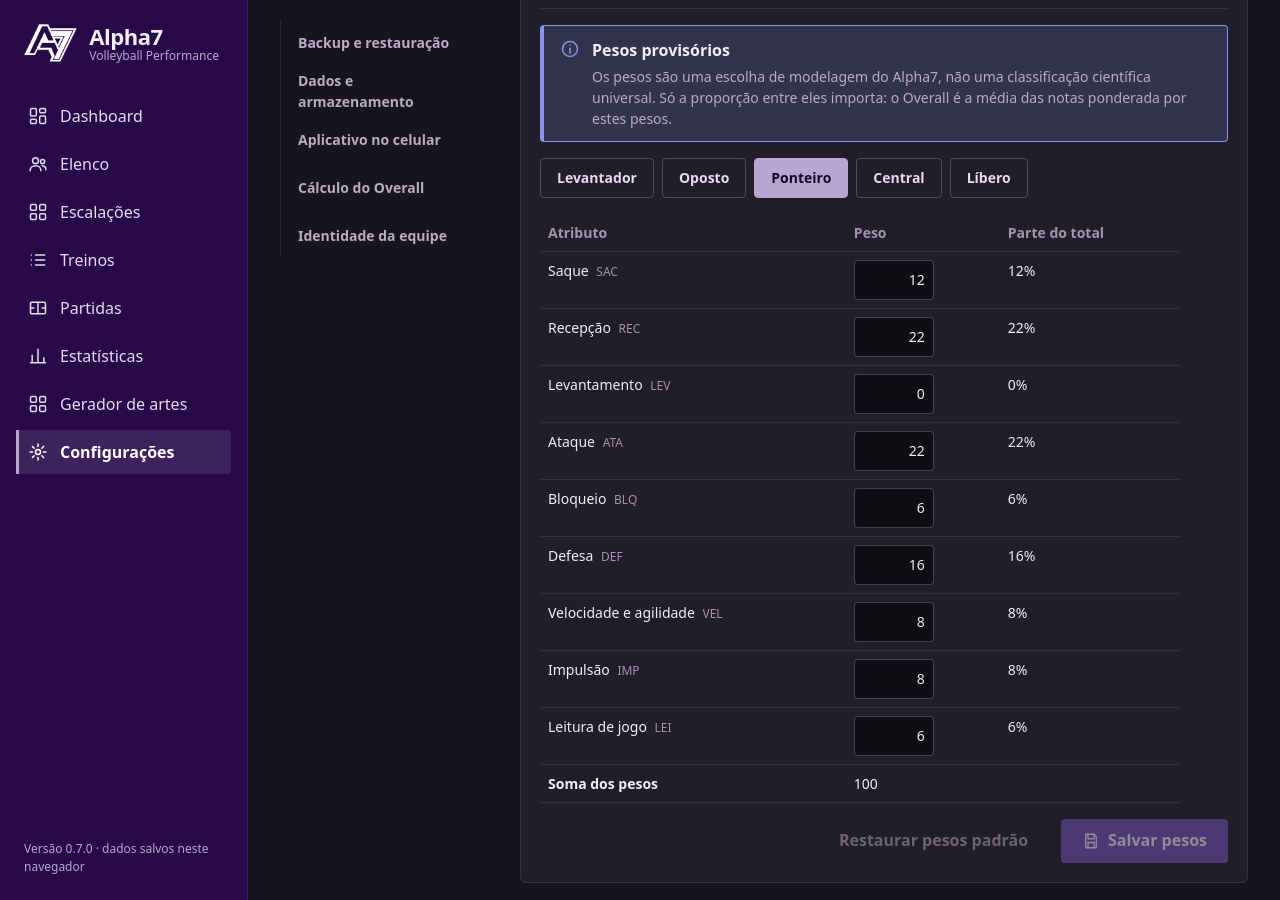
Scenario: Pesos do Overall › valor inválido (texto, negativo ou acima de 100) bloqueia o salvamento com mensagem
The image size is (1280, 900).
(page scrolled)
Clear the field labelled "Ataque ATA" at [894, 451], box [854,431,934,471]
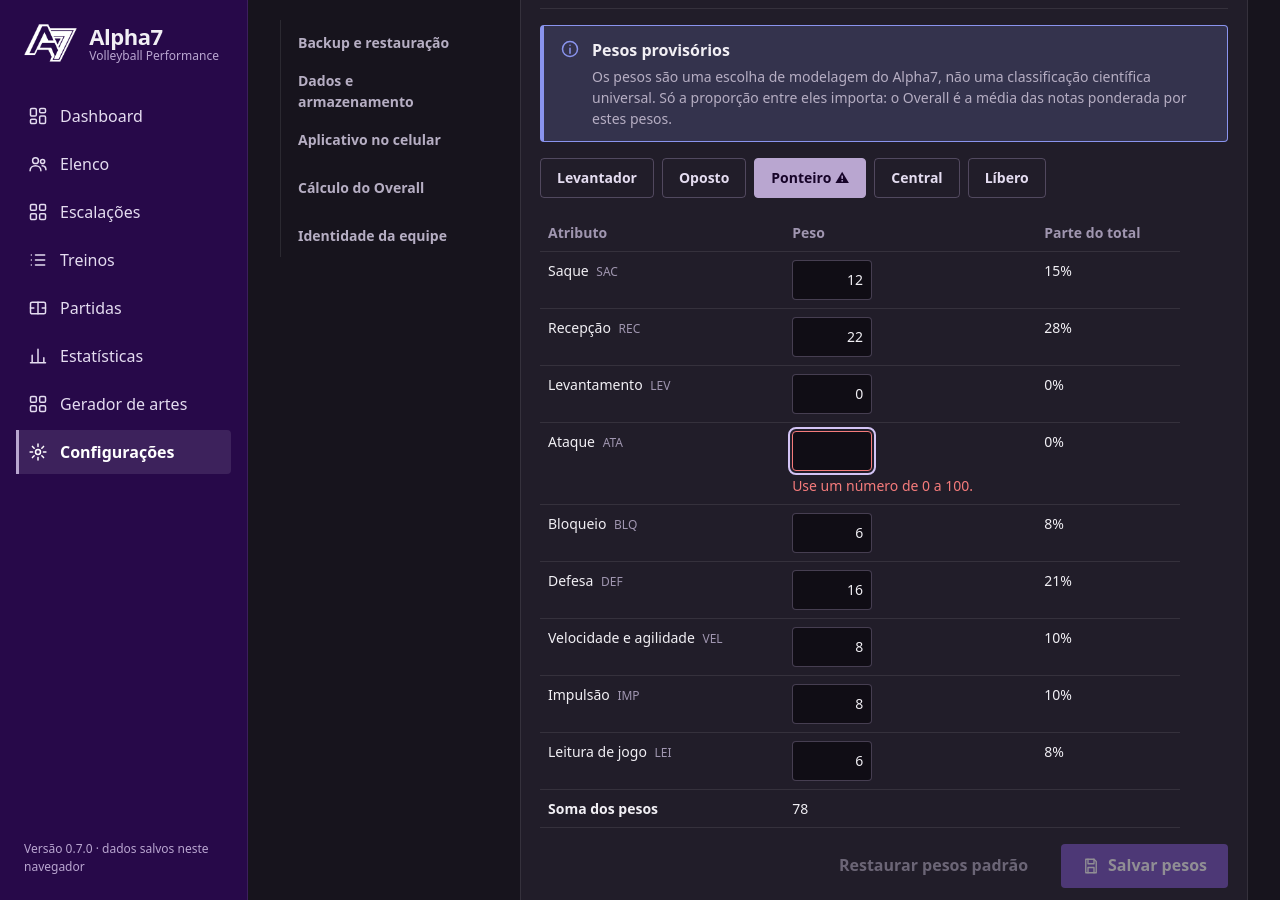
Type "abc" into the field labelled "Ataque ATA" at [832, 451], box [792,431,872,471]
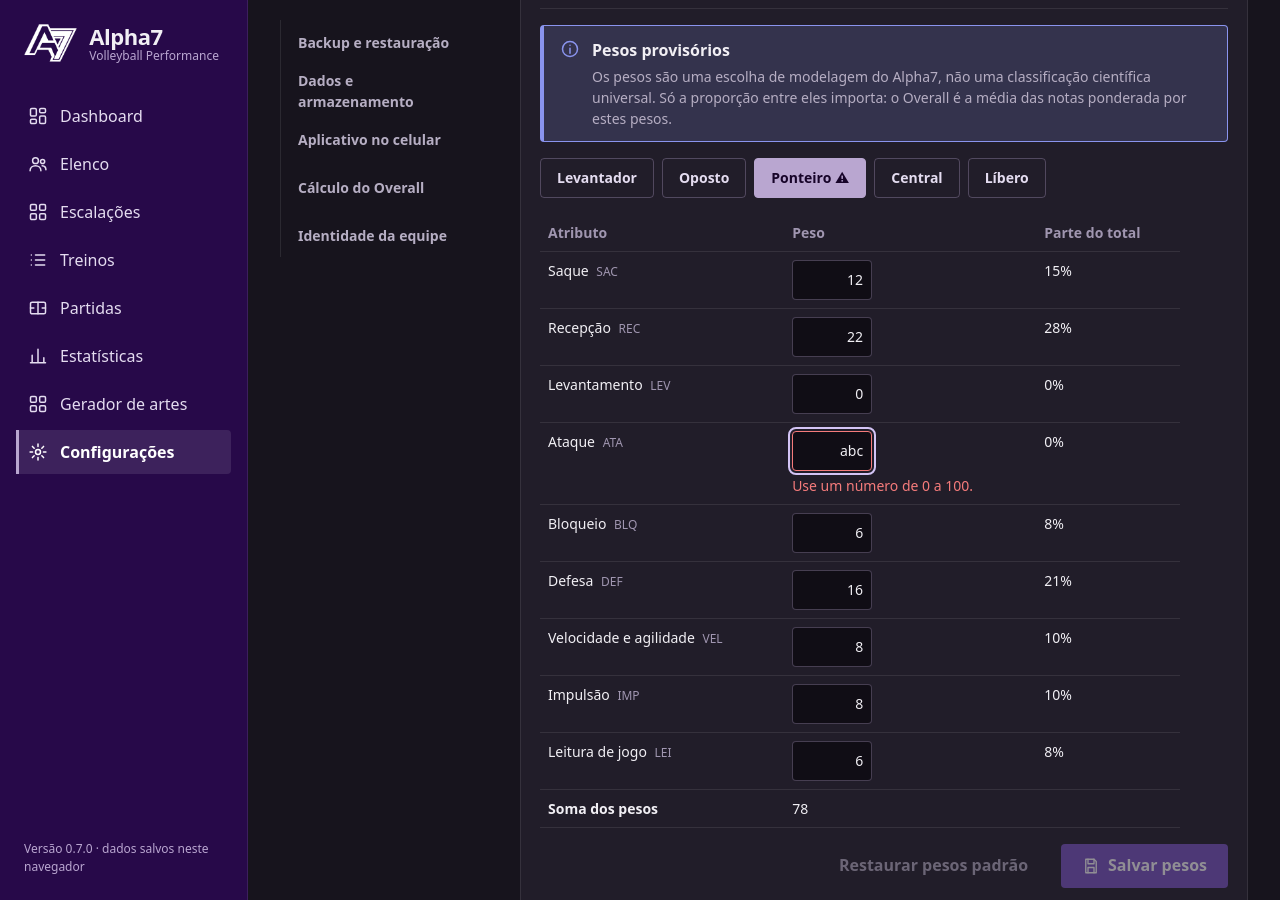
expect the button "Salvar pesos" is disabled: met, box [1061,844,1228,888]
expect the text "Use um número de 0 a 100." is shown: met, box [792,476,973,495]
Replace the text in the field labelled "Ataque ATA" with "-5" at [832, 451], box [792,431,872,471]
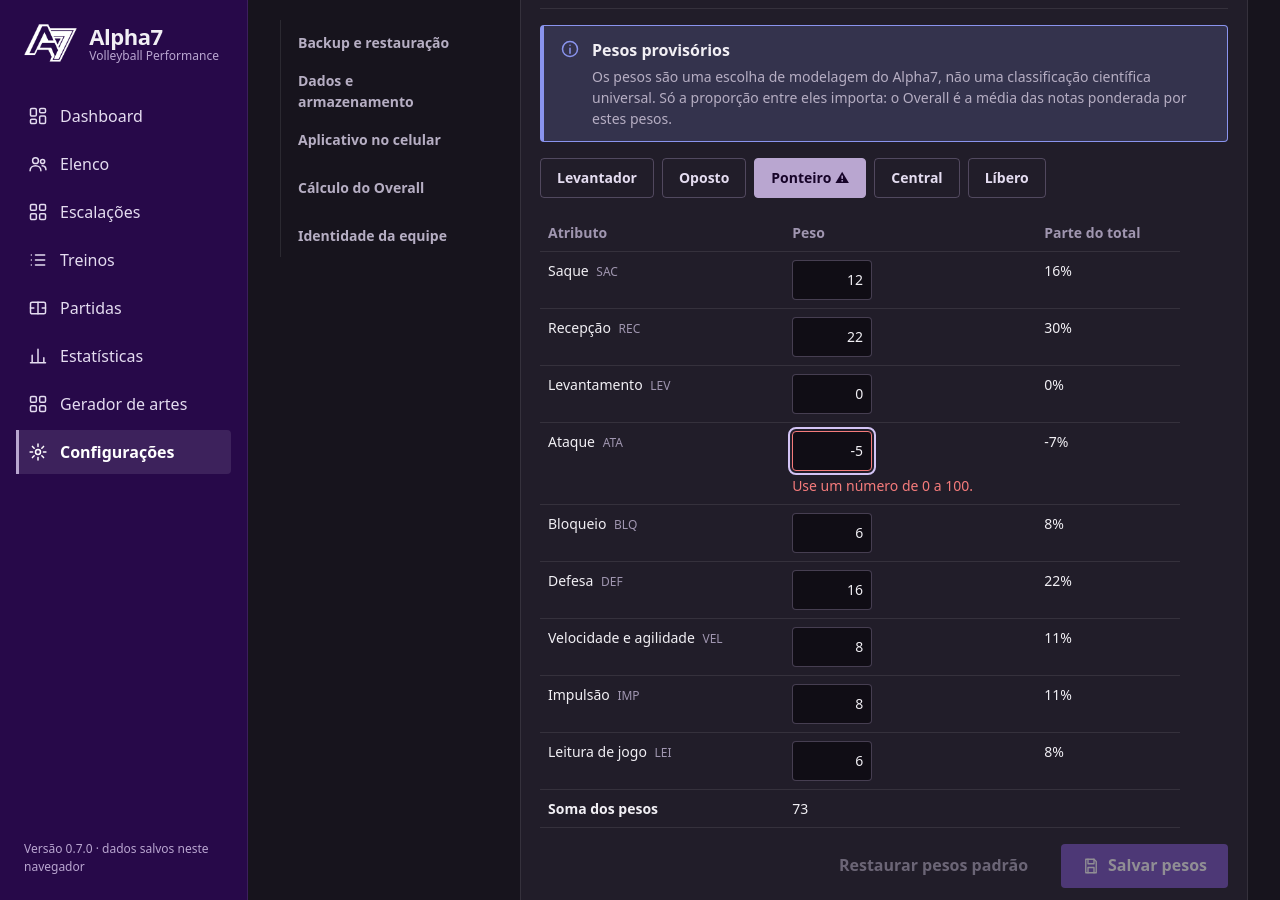
expect the button "Salvar pesos" is disabled: met, box [1061,844,1228,888]
expect the text "Use um número de 0 a 100." is shown: met, box [792,476,973,495]
Replace the text in the field labelled "Ataque ATA" with "101" at [832, 451], box [792,431,872,471]
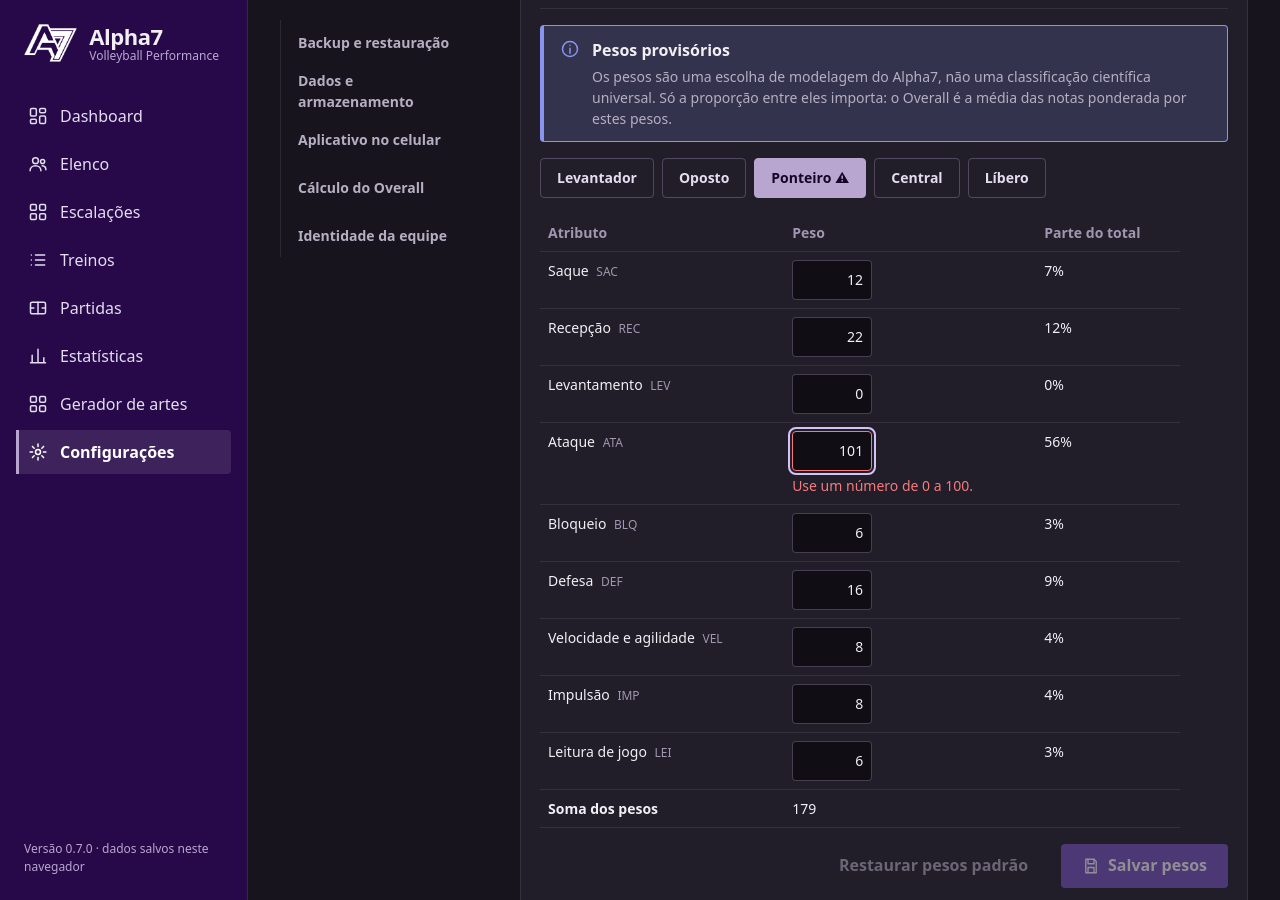
expect the button "Salvar pesos" is disabled: met, box [1061,844,1228,888]
expect the text "Use um número de 0 a 100." is shown: met, box [792,476,973,495]
Clear the field labelled "Ataque ATA" at [832, 451], box [792,431,872,471]
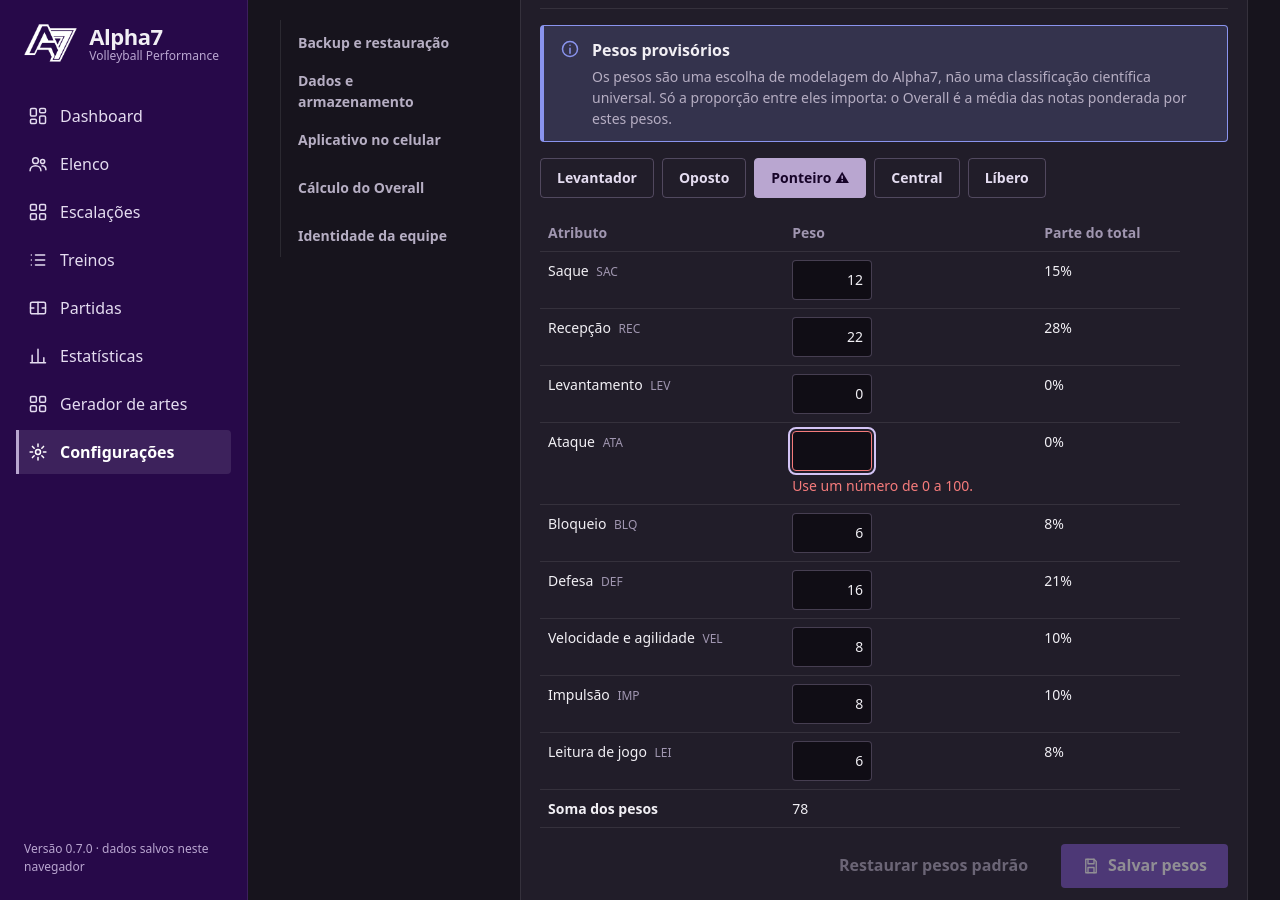
expect the button "Salvar pesos" is disabled: met, box [1061,844,1228,888]
expect the text "Use um número de 0 a 100." is shown: met, box [792,476,973,495]
Type "30" into the field labelled "Ataque ATA" at [832, 451], box [792,431,872,471]
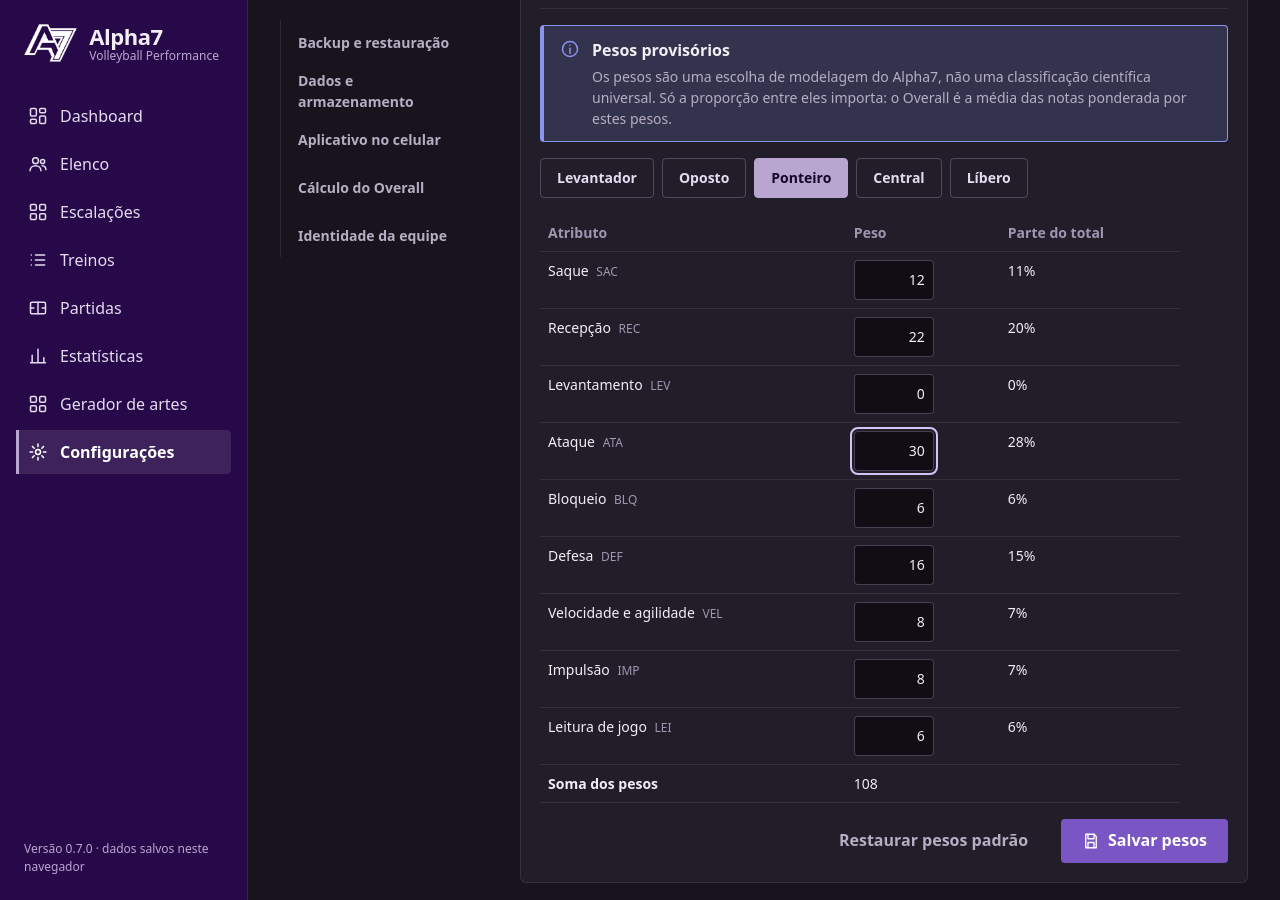
expect the text "Use um número de 0 a 100." is gone: met
expect the button "Salvar pesos" is enabled: met, box [1061,819,1228,863]
